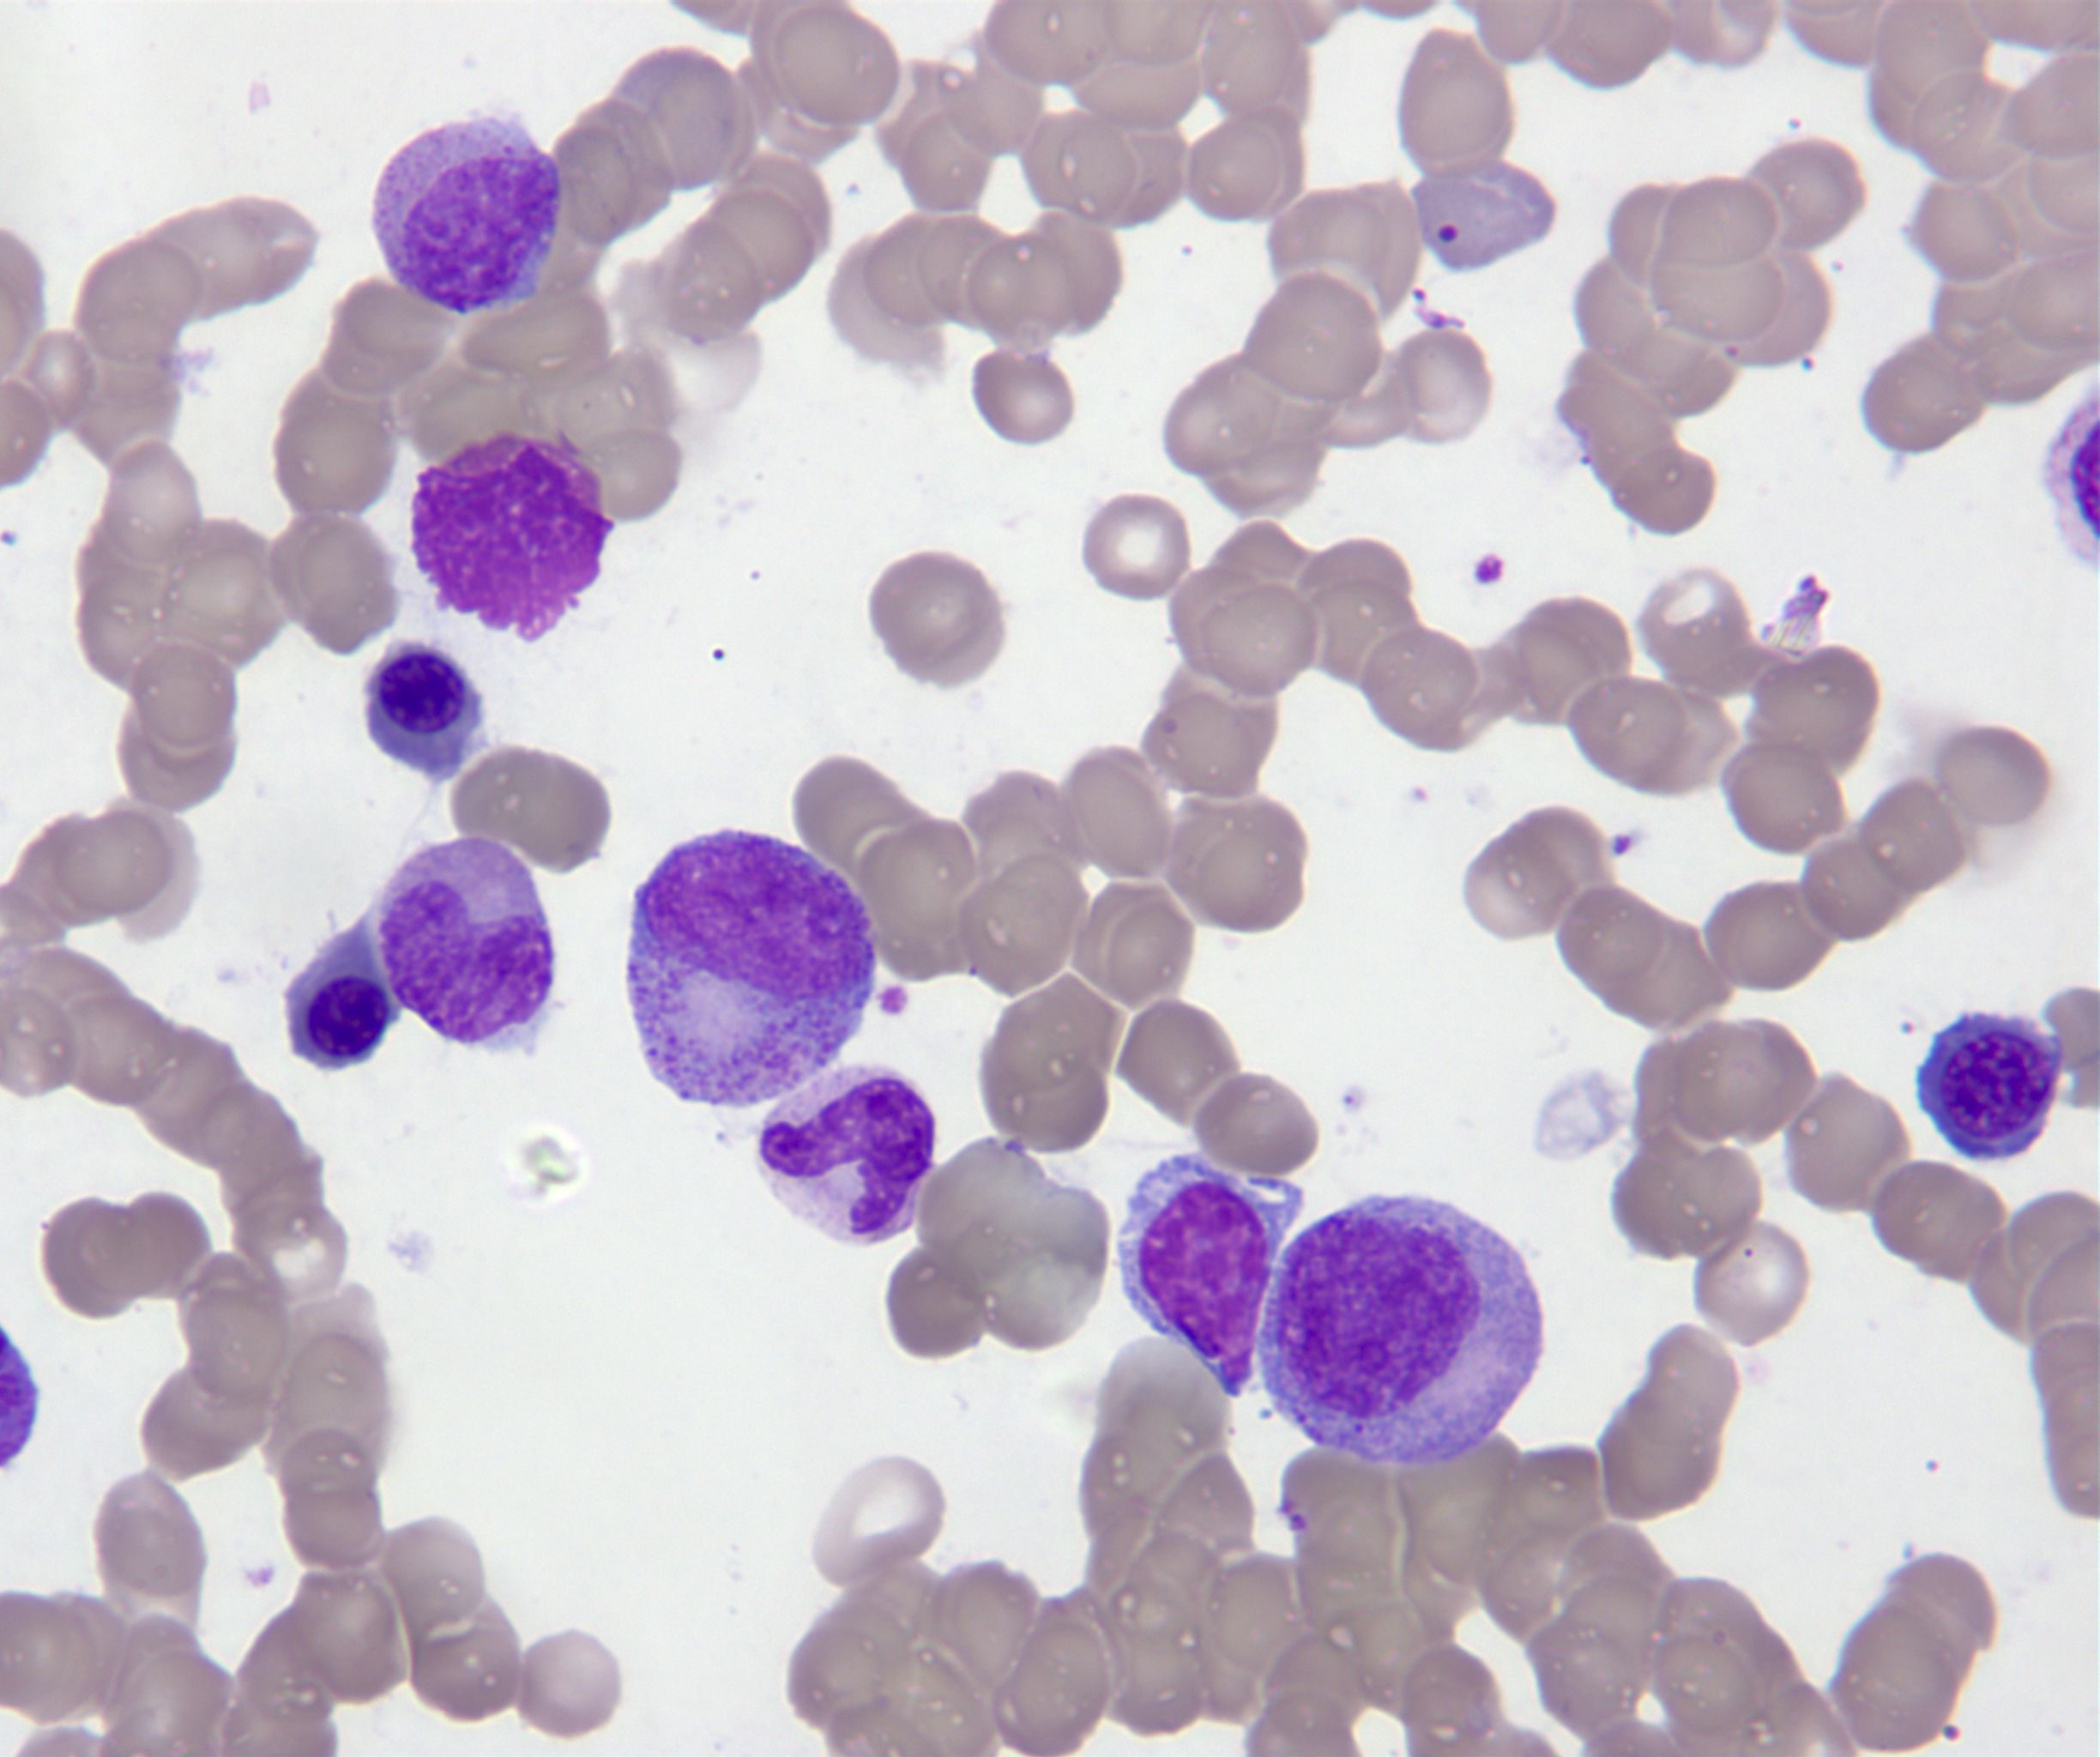23: (1912, 1005, 2070, 1164)
24: (365, 626, 490, 787), (281, 918, 401, 1078)
3: (1252, 1192, 1551, 1476), (621, 825, 883, 1117), (370, 832, 558, 1054), (366, 115, 563, 316)
32: (1113, 1150, 1312, 1406)
5: (753, 1061, 942, 1255)
x: (408, 433, 619, 649)
